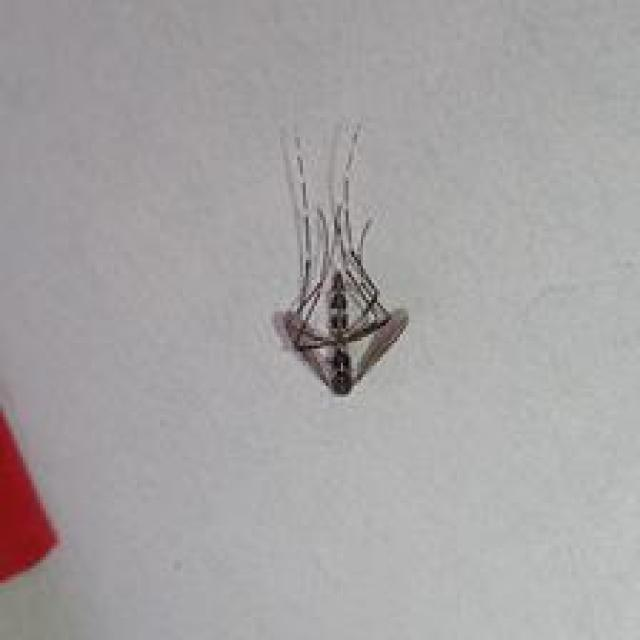Aedes albopictus: (276, 116, 410, 396)
